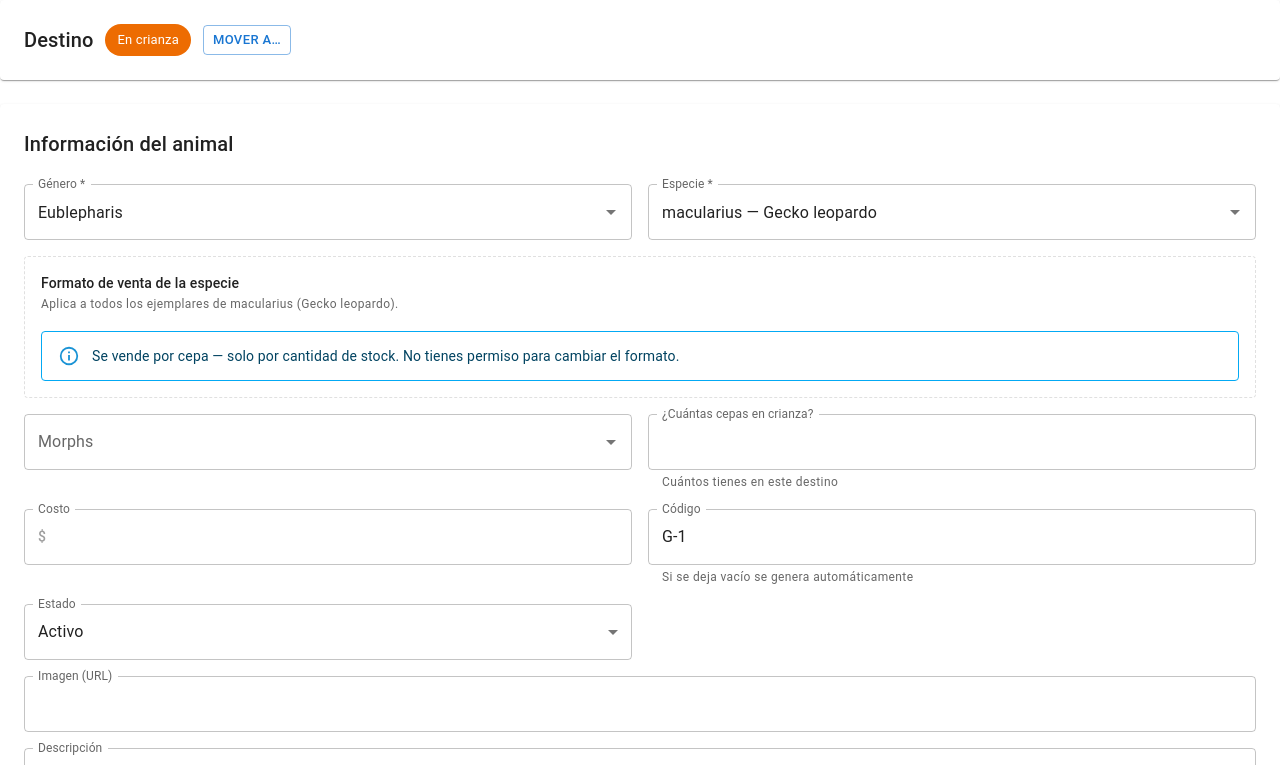
it: Formulario de animal: destino › fuera de venta la cantidad no habla de vender y el estado dice «Activo»
This screenshot has width=1280, height=765.
Expected: the text "Cuántos tienes en este destino" is shown, [662, 475, 838, 489]
Press the mouse on the dropdown named "Estado" at {"x": 61, "y": 632}, box [38, 622, 84, 641]
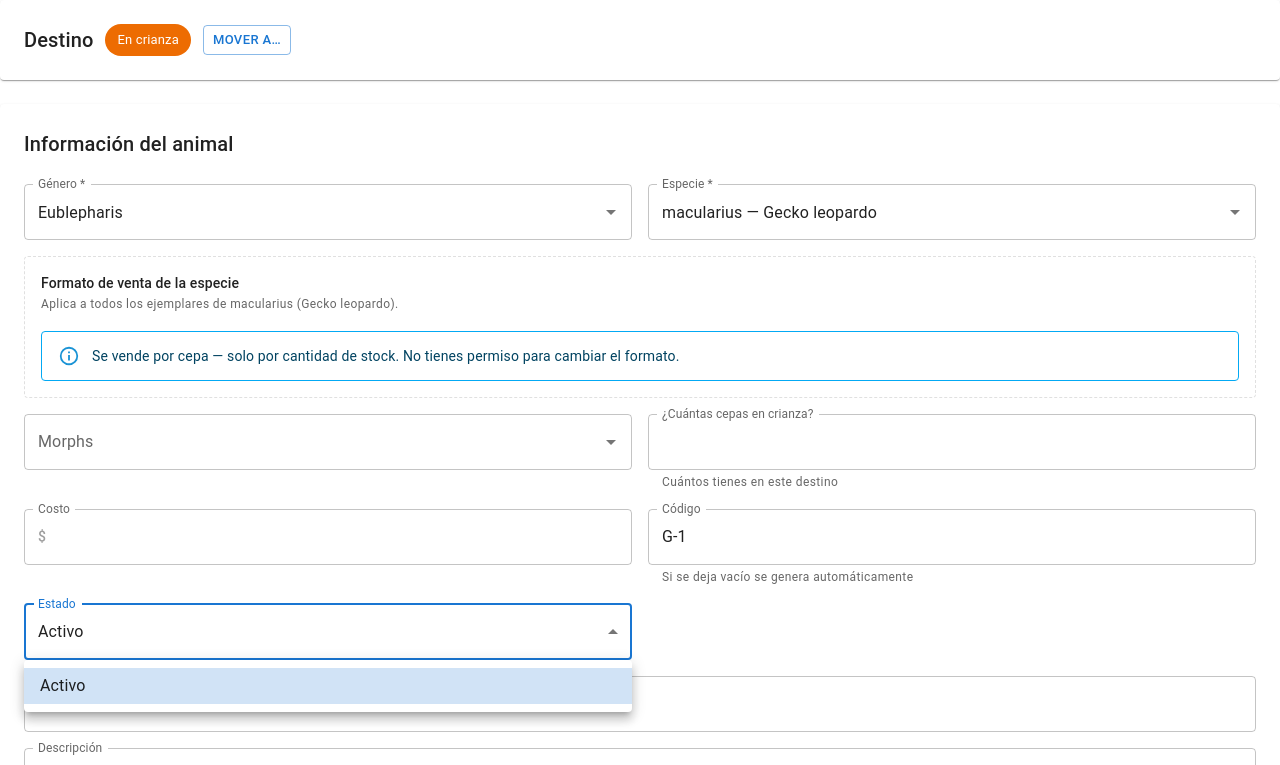
Now the option "Activo" is shown, box [24, 668, 632, 704]
